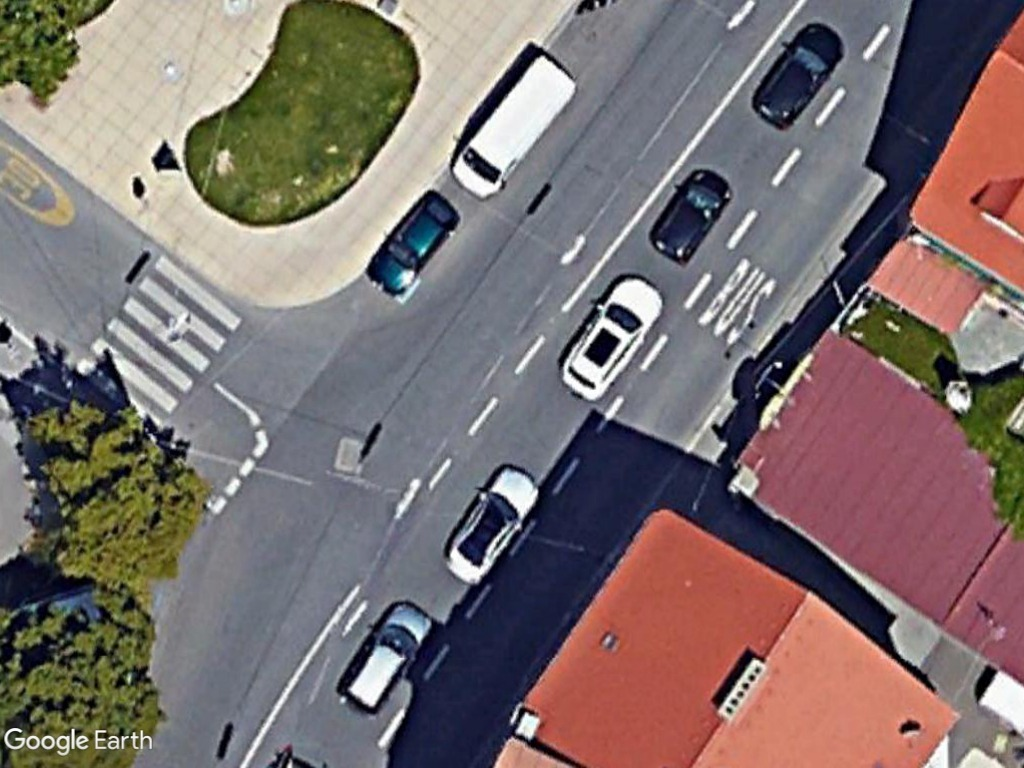car: (553, 270, 669, 401), (438, 461, 544, 589), (334, 594, 433, 721), (749, 18, 857, 134), (362, 188, 461, 302), (647, 163, 734, 265)
van: (451, 48, 587, 200)
